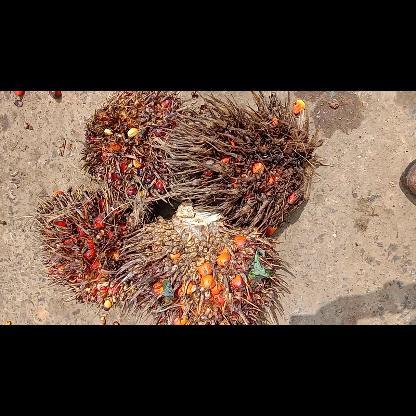Terlalu masak: (160, 90, 323, 238), (116, 192, 296, 324), (31, 184, 163, 312), (80, 90, 202, 208)
